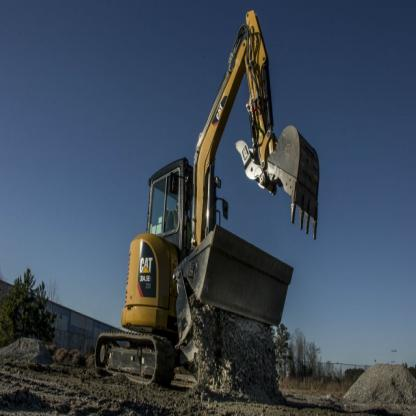excavator: (95, 9, 326, 408)
